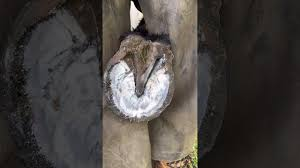horsesole: (103, 57, 176, 121)
